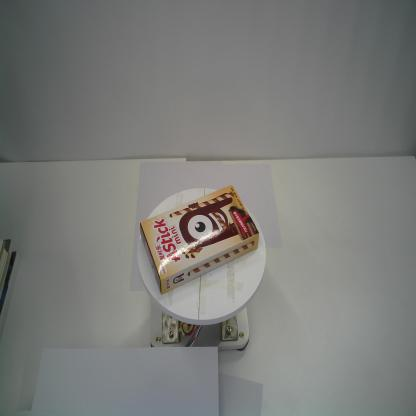Dessert: (139, 184, 260, 296)
